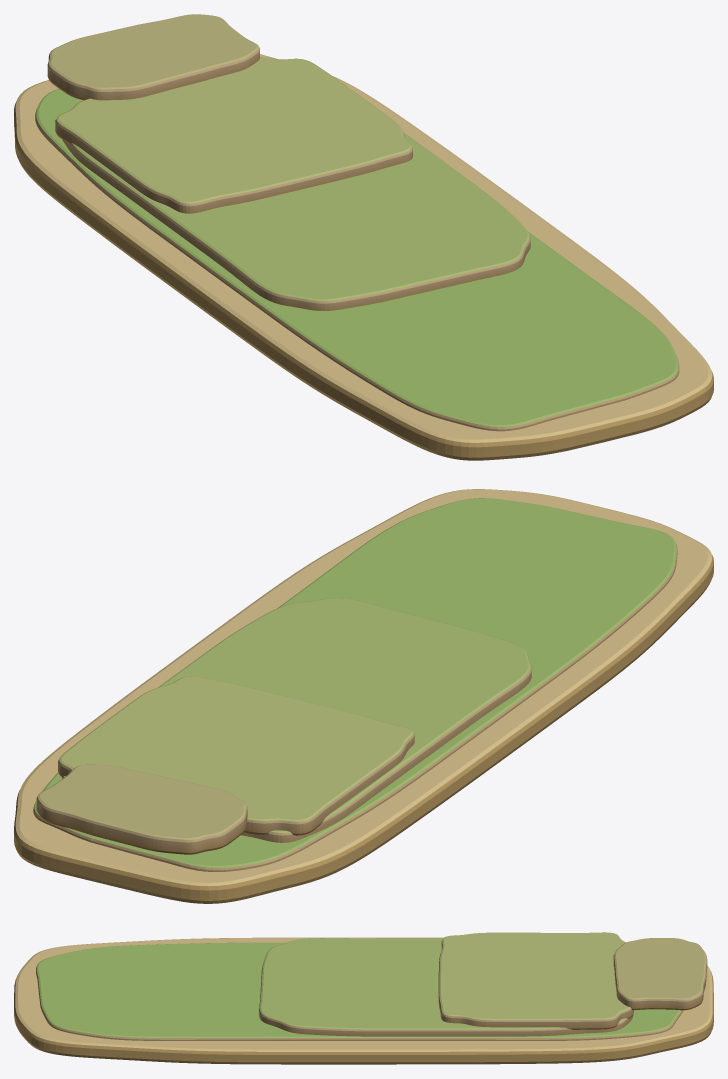
Rendered from terrain.glb.
The picture shows the model from 3 angles, top to bottom: view 1: azimuth 30°, elevation 25°; view 2: azimuth 150°, elevation 25°; view 3: azimuth 270°, elevation 25°; orthographic projection. The views are drawn at different scales.
Parts seen in each view (by area): view 1: atlas_terrain; view 2: atlas_terrain; view 3: atlas_terrain.
Boxes of the visible parts, bbox=[...] form: atlas_terrain: bbox=[14, 14, 713, 460]; atlas_terrain: bbox=[14, 489, 713, 903]; atlas_terrain: bbox=[14, 932, 713, 1064].
Size of the model in its own units: 40.2 by 6.65 by 103.
